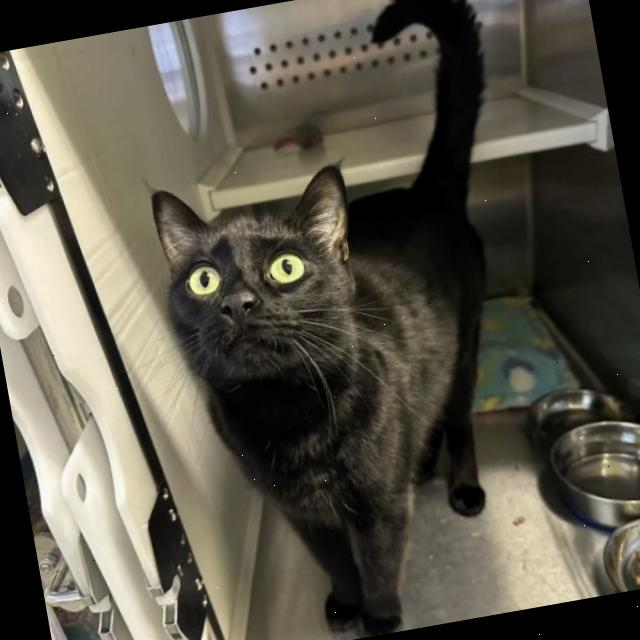domestic_short_hair_cat: (130, 144, 395, 420)
